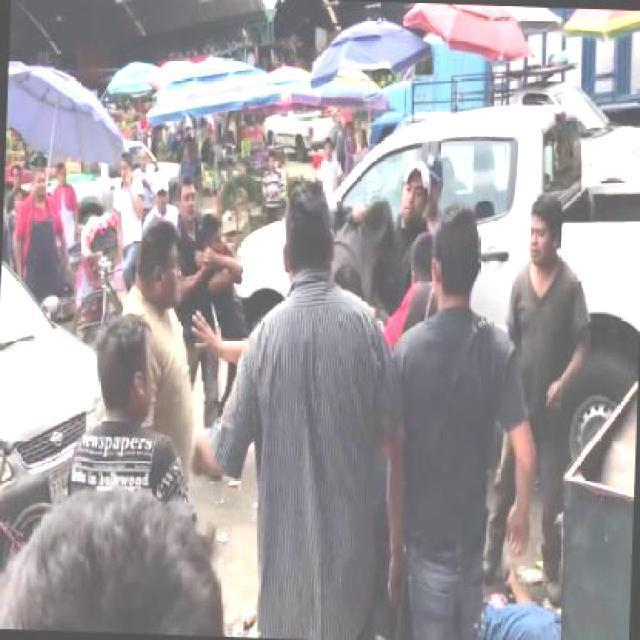fight: (328, 160, 430, 278), (174, 170, 249, 302)
